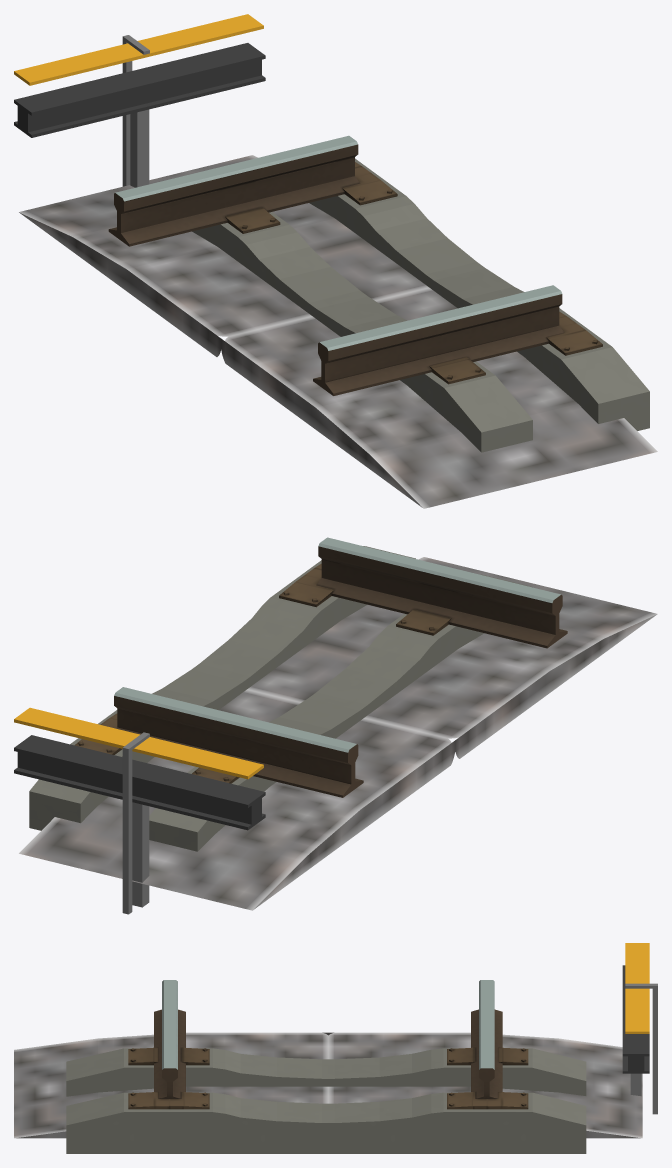
The model's file is spsf_tracks_concrete_ballast_3rdrail.obj.
The picture shows the model from 3 angles, top to bottom: view 1: azimuth 30°, elevation 25°; view 2: azimuth 150°, elevation 25°; view 3: azimuth 270°, elevation 25°; orthographic projection. The views are drawn at different scales.
Parts seen in each view (by area): view 1: RAIL_BASE_Cube.001, RAIL_BASE.006_Cube_Cube.004, RAIL_BASE.004, RAIL_LEFT_Cube.002, RAIL_RIGHT_Cube.010, RAIL_BASE.005_Cube.003; view 2: RAIL_BASE_Cube.001, RAIL_BASE.006_Cube_Cube.004, RAIL_BASE.004, RAIL_LEFT_Cube.002, RAIL_RIGHT_Cube.010, RAIL_BASE.005_Cube.003; view 3: RAIL_BASE.006_Cube_Cube.004, RAIL_BASE_Cube.001, RAIL_BASE.005_Cube.003, RAIL_BASE.004, RAIL_LEFT_Cube.002, RAIL_RIGHT_Cube.010.
Boxes of the visible parts, bbox=[...] form: RAIL_BASE_Cube.001: bbox=[19, 155, 657, 508]; RAIL_BASE.006_Cube_Cube.004: bbox=[192, 158, 649, 452]; RAIL_BASE.004: bbox=[14, 14, 265, 187]; RAIL_LEFT_Cube.002: bbox=[313, 285, 564, 395]; RAIL_RIGHT_Cube.010: bbox=[108, 135, 360, 246]; RAIL_BASE.005_Cube.003: bbox=[225, 162, 602, 384]; RAIL_BASE_Cube.001: bbox=[19, 557, 657, 910]; RAIL_BASE.006_Cube_Cube.004: bbox=[29, 546, 532, 851]; RAIL_BASE.004: bbox=[14, 707, 265, 914]; RAIL_LEFT_Cube.002: bbox=[316, 537, 567, 648]; RAIL_RIGHT_Cube.010: bbox=[114, 687, 363, 797]; RAIL_BASE.005_Cube.003: bbox=[74, 563, 451, 783]; RAIL_BASE.006_Cube_Cube.004: bbox=[66, 1048, 586, 1153]; RAIL_BASE_Cube.001: bbox=[14, 1032, 642, 1138]; RAIL_BASE.005_Cube.003: bbox=[128, 1047, 528, 1109]; RAIL_BASE.004: bbox=[622, 943, 657, 1114]; RAIL_LEFT_Cube.002: bbox=[154, 980, 185, 1098]; RAIL_RIGHT_Cube.010: bbox=[471, 980, 502, 1098].
Bounding box in the file's own units: 1.11 × 0.6752 × 3.07.
3 materials, 3 textured.
